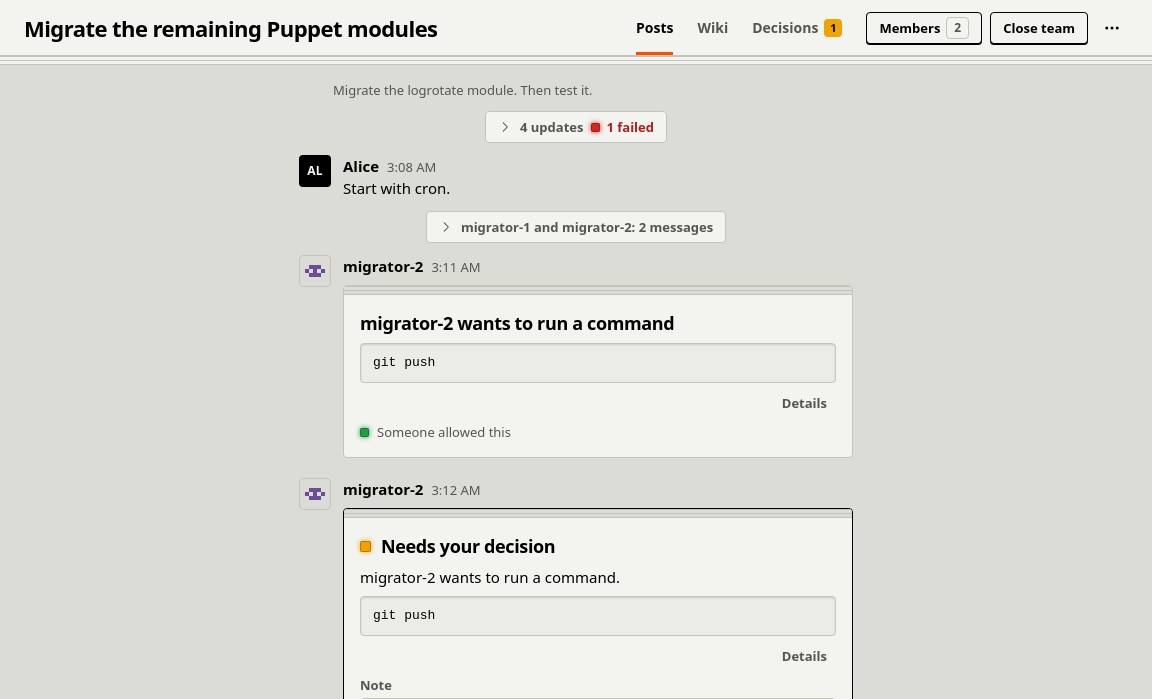
it: the channel › says that it saved what the manager can do here, once the dialog closes
What coordinates should you click on to do the following:
click the button named "More"
I would click on:
 (1112, 28)
Its box is [1096,12,1128,44].
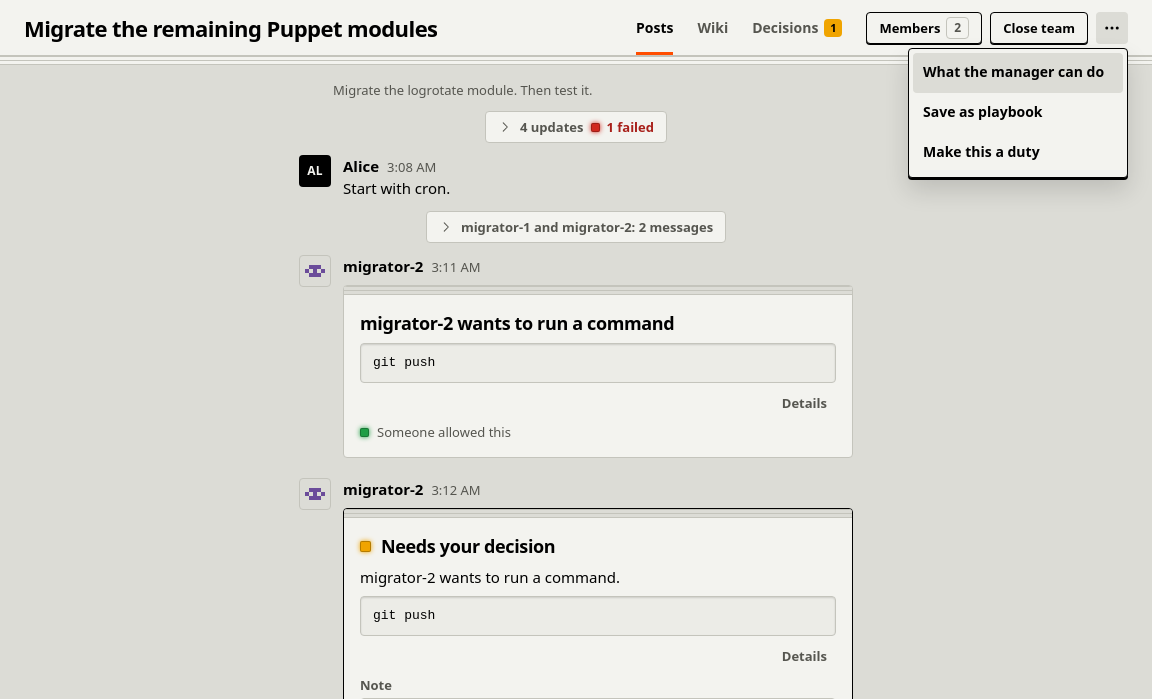
What coordinates should you click on to do the following:
click the menu item "What the manager can do"
I would click on:
 (1018, 72)
Its box is [913,52,1123,92].
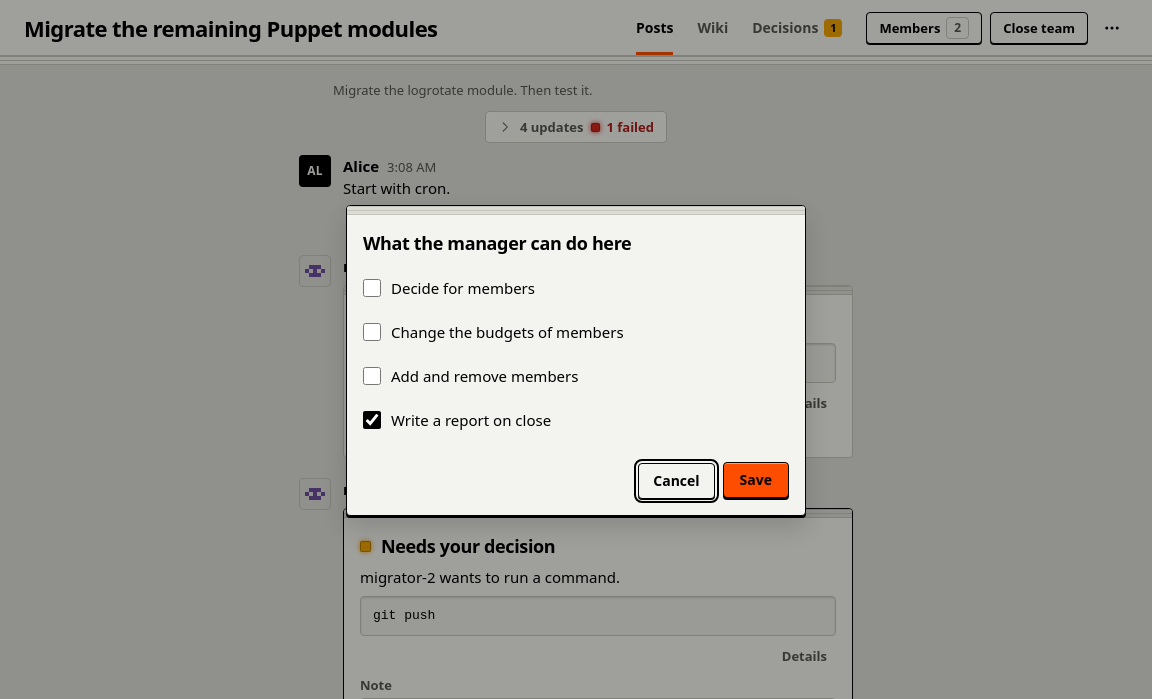
Result: the heading "What the manager can do here" is shown at [363,230,631,254]
What coordinates should you click on to do the following:
click the checkbox labelled "Decide for members"
I would click on:
 (372, 288)
Its box is [363,278,381,296].
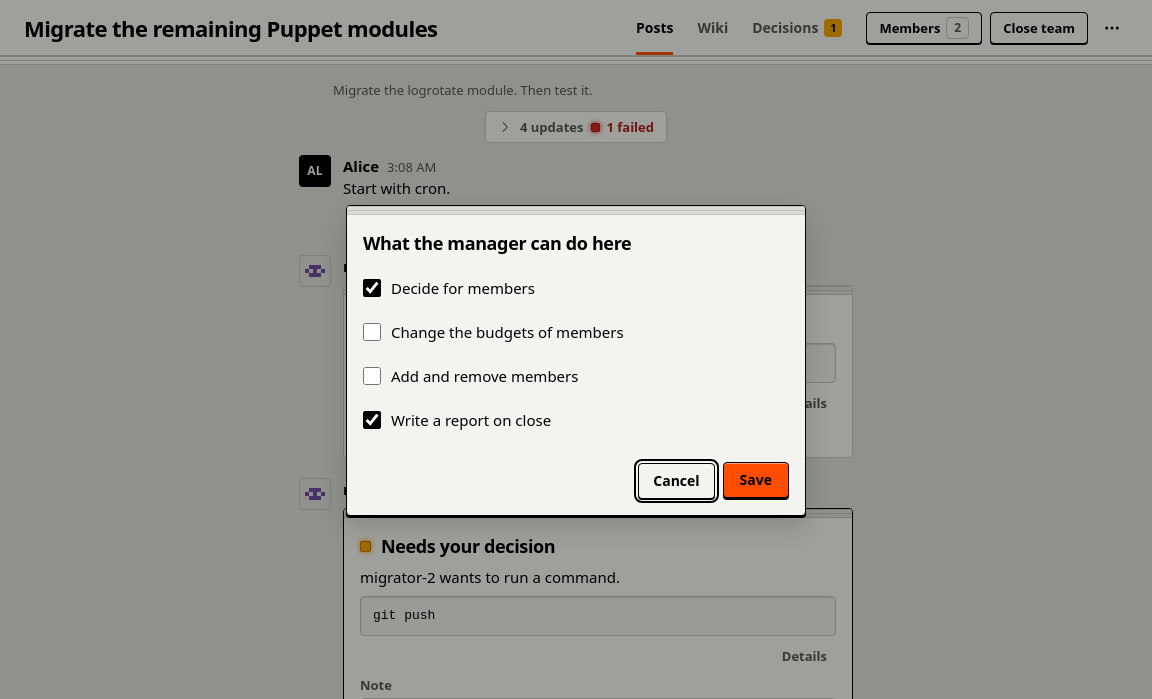
What coordinates should you click on to do the following:
click the button "Save"
I would click on:
 (756, 480)
Its box is [723,462,789,498].
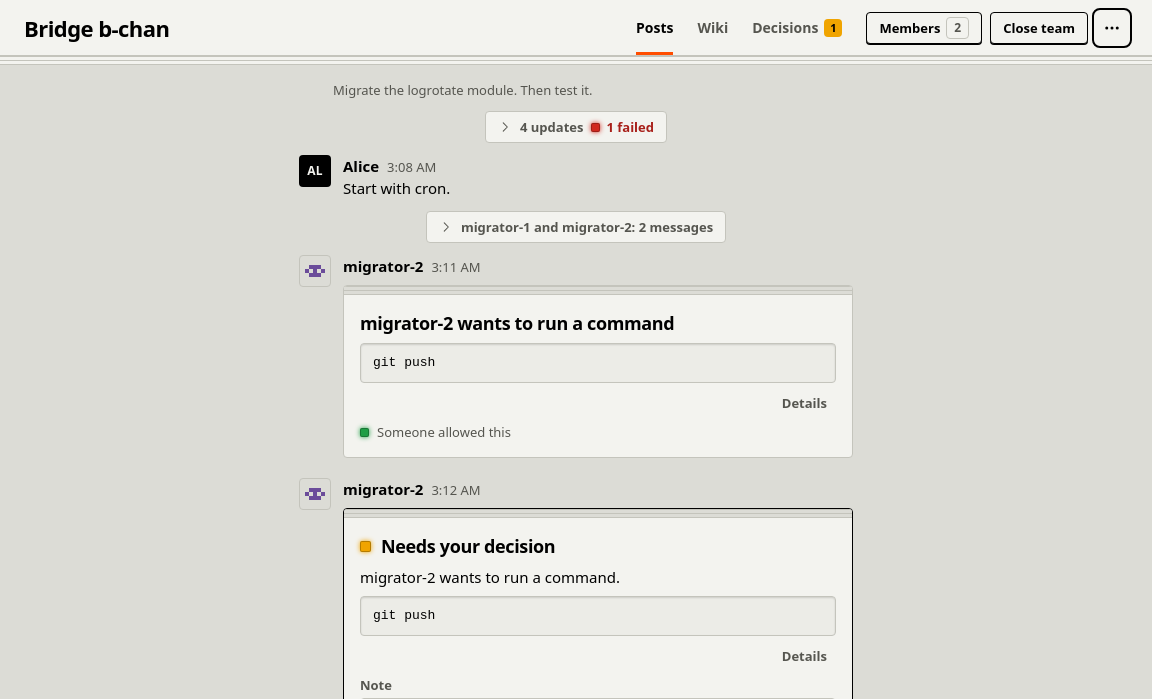
Result: the dialog with class "confirm" is gone
